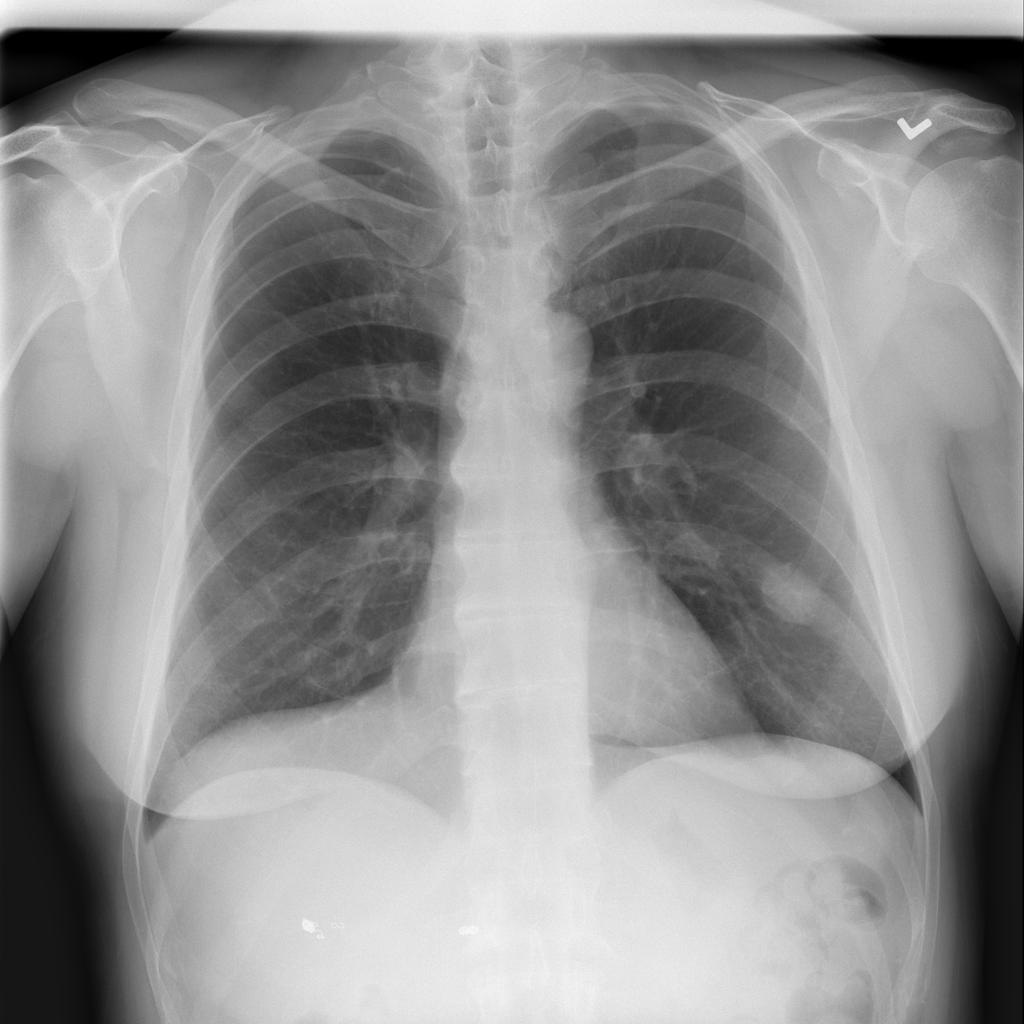nodule: (735, 536, 848, 641)
